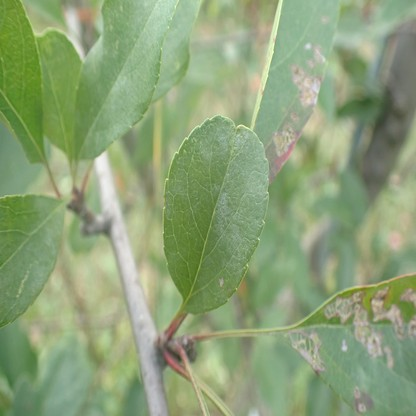powdery_mildew: (162, 114, 267, 314), (73, 2, 173, 159), (0, 197, 64, 310)
